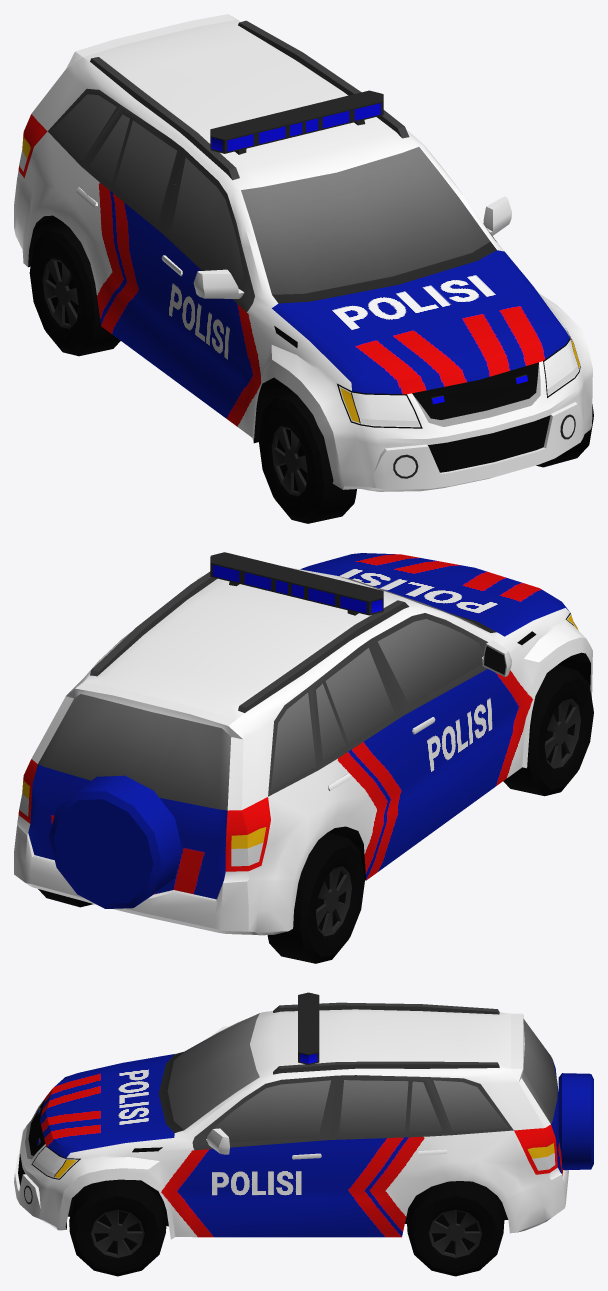
File: car-police.compressed.glb
3 views of the same model, one above another, from view 1: azimuth 30°, elevation 25°; view 2: azimuth 150°, elevation 25°; view 3: azimuth 270°, elevation 25° (orthographic). The views are drawn at different scales.
Parts seen in each view (by area): view 1: body-Object_3:body:0, front-left-Object_3:front-left:5, rear-left-Object_3:rear-left:4, body-Object_3:body:1 (×4), lightbar-Object_3:lightbar:1; view 2: body-Object_3:body:0, body-Object_3:body:2, rear-left-Object_3:rear-left:4, front-left-Object_3:front-left:5, lightbar-Object_3:lightbar:1, body-Object_3:body:1 (×3); view 3: body-Object_3:body:0, front-right-Object_3:front-right:2, rear-right-Object_3:rear-right:3, body-Object_3:body:1 (×3), body-Object_3:body:2, lightbar-Object_3:lightbar:1.
Part boxes in pixels (<box>): body-Object_3:body:0: <box>14,14,592,491</box>; front-left-Object_3:front-left:5: <box>258,392,356,523</box>; rear-left-Object_3:rear-left:4: <box>29,225,120,356</box>; body-Object_3:body:1 (×4): <box>90,20,511,298</box>; lightbar-Object_3:lightbar:1: <box>210,90,383,153</box>; body-Object_3:body:0: <box>14,553,592,935</box>; body-Object_3:body:2: <box>49,775,182,908</box>; rear-left-Object_3:rear-left:4: <box>267,832,364,963</box>; front-left-Object_3:front-left:5: <box>503,665,593,796</box>; lightbar-Object_3:lightbar:1: <box>210,552,383,615</box>; body-Object_3:body:1 (×3): <box>90,571,511,712</box>; body-Object_3:body:0: <box>14,1009,568,1239</box>; front-right-Object_3:front-right:2: <box>69,1179,166,1276</box>; rear-right-Object_3:rear-right:3: <box>407,1181,504,1276</box>; body-Object_3:body:1 (×3): <box>206,1002,499,1154</box>; body-Object_3:body:2: <box>558,1073,593,1170</box>; lightbar-Object_3:lightbar:1: <box>298,992,319,1064</box>.
Size of the model in its own units: 2.14 by 1.82 by 4.65.
1 material, 1 textured.
